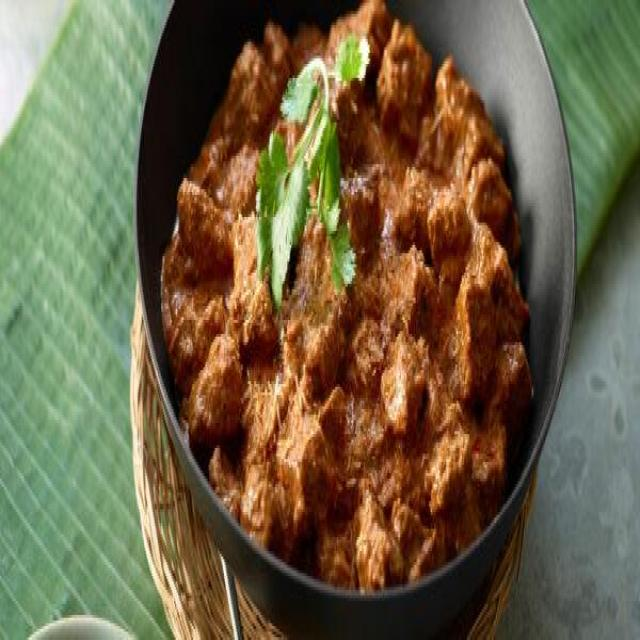Rendang: (161, 0, 543, 570)
